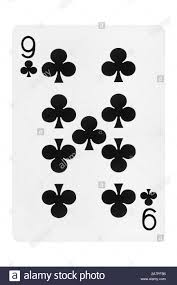nine of clubs: (13, 25, 164, 243)
